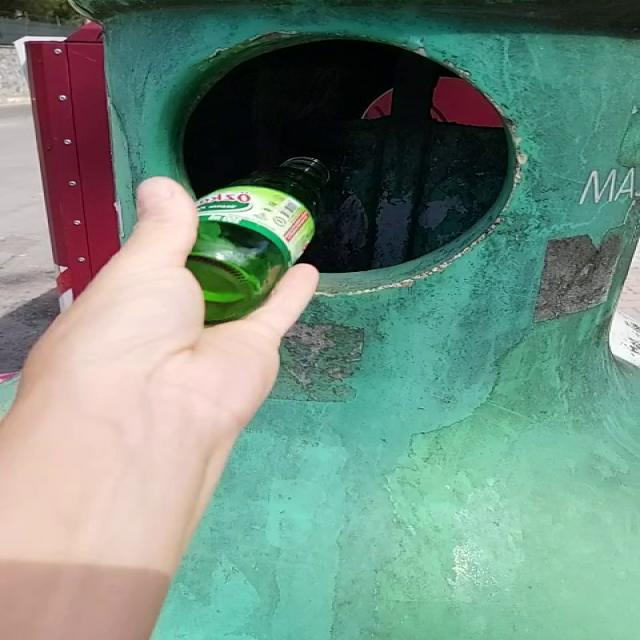glass: (187, 158, 329, 323)
